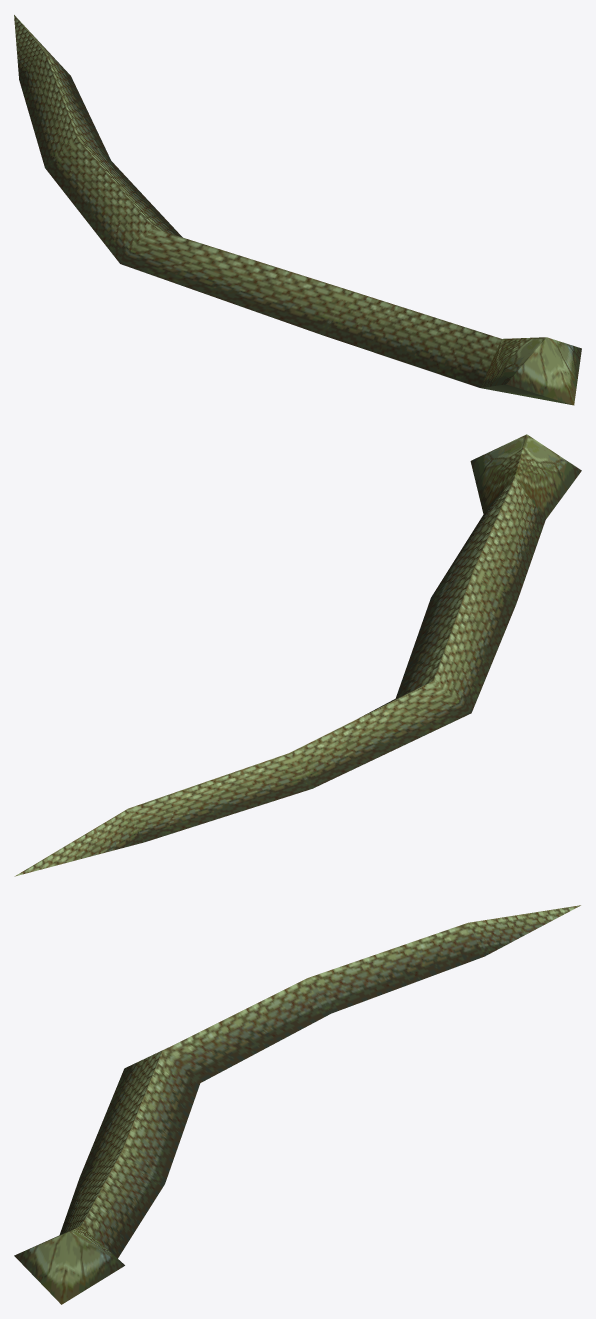
File: snake_41006875.glb
The picture shows the model from 3 angles, top to bottom: view 1: azimuth 30°, elevation 25°; view 2: azimuth 150°, elevation 25°; view 3: azimuth 330°, elevation 25°; orthographic projection.
Size of the model in its own units: 0.3558 by 0.0851 by 1.44.
Materials: 1 (1 with a texture image).
